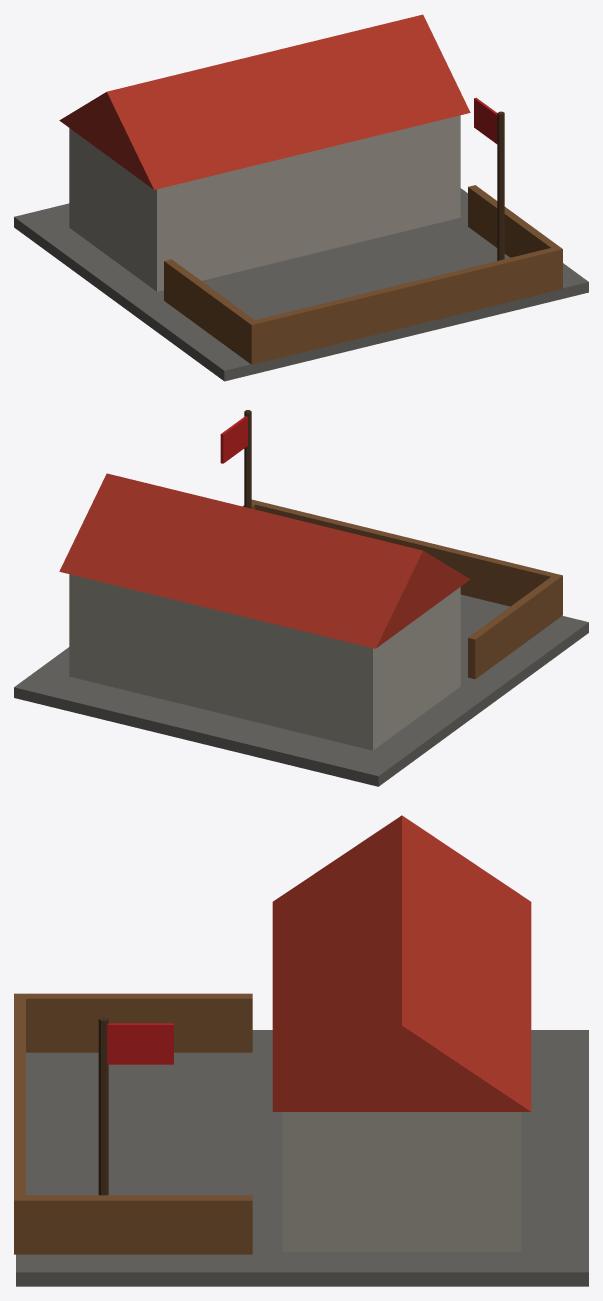
The model's file is barracks.glb.
3 views of the same model, one above another, from view 1: azimuth 30°, elevation 25°; view 2: azimuth 150°, elevation 25°; view 3: azimuth 270°, elevation 25° (orthographic). The views are drawn at different scales.
Visible parts, largest first — view 1: barracks; view 2: barracks; view 3: barracks.
Boxes of the visible parts, x1=… form: barracks: x1=14, y1=14, x2=588, y2=381; barracks: x1=14, y1=410, x2=588, y2=786; barracks: x1=14, y1=815, x2=588, y2=1286.
Size of the model in its own units: 2.88 by 1.36 by 2.89.
